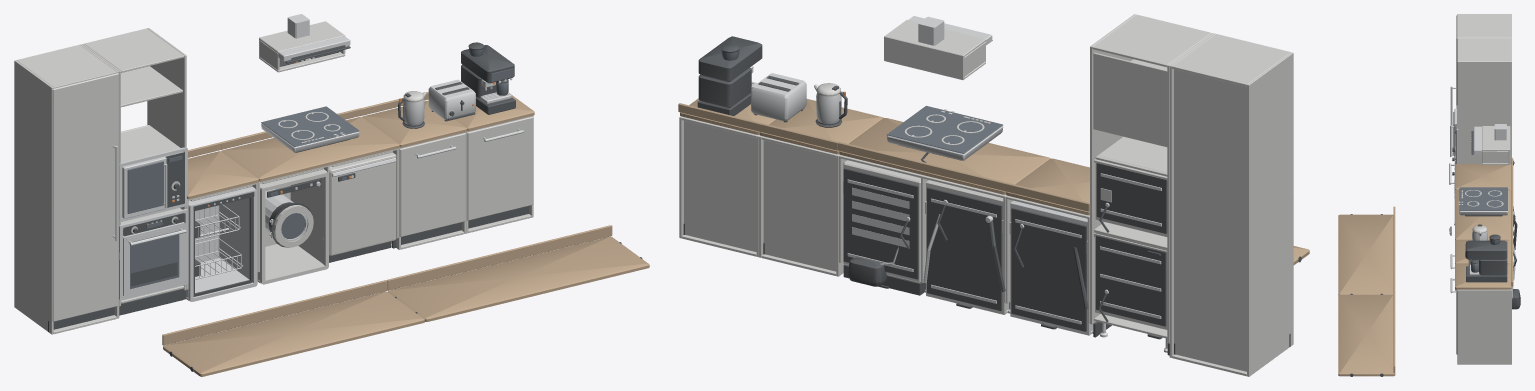
The model's file is home-appliances-and-utility-integrated-appliance-run-bdf6444b__14181.glb.
3 views of the same model, side by side, from view 1: azimuth 30°, elevation 25°; view 2: azimuth 150°, elevation 25°; view 3: azimuth 270°, elevation 25° (orthographic). The views are drawn at different scales.
Parts seen in each view (by area): view 1: 000-utility-broom-cupboard-600/door/carcass, 000-utility-broom-cupboard-600/0, 006-utility-worktop-run-2m/0, 007-utility-worktop-run-2m/0, 001-appliance-housing-tower-600/0, 004-utility-base-unit-600/door/carcass, 010-dishwasher-integrated/0, 005-utility-base-unit-600/door/carcass, 012-fridge-undercounter/door/carcass, 003-appliance-housing-frame-1200/3, 011-washing-machine-integrated/0, 009-microwave-combi-built-in/door (×2) (+29 smaller); view 2: 000-utility-broom-cupboard-600/0, 001-appliance-housing-tower-600/0, 004-utility-base-unit-600/0, 005-utility-base-unit-600/0, 010-dishwasher-integrated/1, 011-washing-machine-integrated/1, 012-fridge-undercounter/1, 003-appliance-housing-frame-1200/3, 008-oven-built-in-single/1, 014-hood-telescopic-integrated/0, 017-coffee-machine-bean-to-cup/0, 009-microwave-combi-built-in/1 (+18 smaller); view 3: 001-appliance-housing-tower-600/0, 007-utility-worktop-run-2m/0, 006-utility-worktop-run-2m/0, 005-utility-base-unit-600/0, 017-coffee-machine-bean-to-cup/0, 003-appliance-housing-frame-1200/3, 002-appliance-housing-frame-600/3, 000-utility-broom-cupboard-600/0, 013-hob-induction-4-zone/1, 014-hood-telescopic-integrated/0, 005-utility-base-unit-600/3, 004-utility-base-unit-600/3 (+8 smaller).
Boxes of the visible parts, <box> form: 000-utility-broom-cupboard-600/door/carcass: <box>52,73,118,321</box>; 000-utility-broom-cupboard-600/0: <box>14,44,119,334</box>; 006-utility-worktop-run-2m/0: <box>162,280,424,376</box>; 007-utility-worktop-run-2m/0: <box>387,225,649,321</box>; 001-appliance-housing-tower-600/0: <box>82,28,186,306</box>; 004-utility-base-unit-600/door/carcass: <box>399,133,466,236</box>; 010-dishwasher-integrated/0: <box>186,186,257,301</box>; 005-utility-base-unit-600/door/carcass: <box>467,116,533,220</box>; 012-fridge-undercounter/door/carcass: <box>329,156,396,254</box>; 003-appliance-housing-frame-1200/3: <box>220,108,399,181</box>; 011-washing-machine-integrated/0: <box>257,169,328,284</box>; 009-microwave-combi-built-in/door (×2): <box>122,156,167,218</box>; 000-utility-broom-cupboard-600/0: <box>1169,33,1293,376</box>; 001-appliance-housing-tower-600/0: <box>1090,14,1213,343</box>; 004-utility-base-unit-600/0: <box>759,135,844,276</box>; 005-utility-base-unit-600/0: <box>679,116,760,257</box>; 010-dishwasher-integrated/1: <box>1011,208,1088,331</box>; 011-washing-machine-integrated/1: <box>927,187,1005,310</box>; 012-fridge-undercounter/1: <box>843,168,925,295</box>; 003-appliance-housing-frame-1200/3: <box>838,118,1050,194</box>; 008-oven-built-in-single/1: <box>1096,235,1166,326</box>; 014-hood-telescopic-integrated/0: <box>884,20,985,79</box>; 017-coffee-machine-bean-to-cup/0: <box>697,36,762,115</box>; 009-microwave-combi-built-in/1: <box>1096,163,1167,233</box>; 001-appliance-housing-tower-600/0: <box>1457,38,1511,163</box>; 007-utility-worktop-run-2m/0: <box>1338,286,1395,376</box>; 006-utility-worktop-run-2m/0: <box>1338,206,1395,294</box>; 005-utility-base-unit-600/0: <box>1457,289,1511,364</box>; 017-coffee-machine-bean-to-cup/0: <box>1466,234,1507,282</box>; 003-appliance-housing-frame-1200/3: <box>1455,183,1513,239</box>; 002-appliance-housing-frame-600/3: <box>1455,158,1513,189</box>; 000-utility-broom-cupboard-600/0: <box>1457,14,1511,37</box>; 013-hob-induction-4-zone/1: <box>1459,187,1507,210</box>; 014-hood-telescopic-integrated/0: <box>1482,126,1510,164</box>; 005-utility-base-unit-600/3: <box>1455,257,1513,289</box>; 004-utility-base-unit-600/3: <box>1455,234,1513,263</box>.
Bounding box in the file's own units: 4.6 × 2.1 × 1.93.
